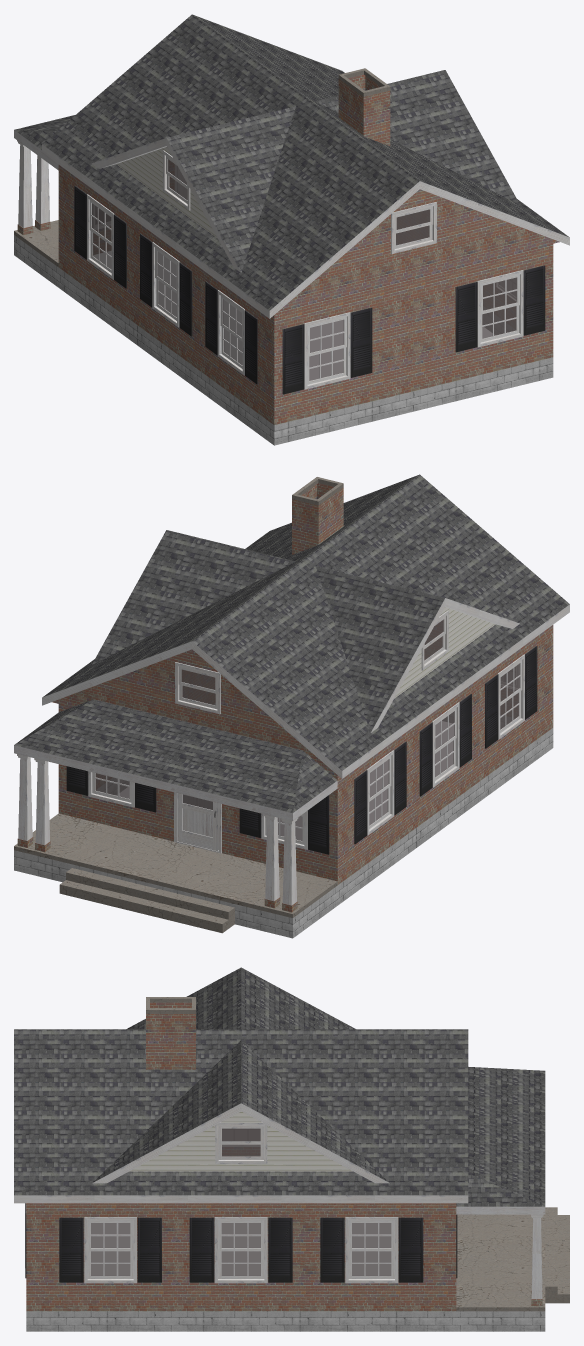
The model's file is small_brick_house.glb.
3 views of the same model, one above another, from view 1: azimuth 30°, elevation 25°; view 2: azimuth 150°, elevation 25°; view 3: azimuth 270°, elevation 25° (orthographic).
Visible parts, largest first — view 1: Material2 (×8); view 2: Material2 (×8); view 3: Material2 (×8).
Boxes of the visible parts, box(x1,y1,x2,y2) form: Material2 (×8): box(14, 14, 569, 445); Material2 (×8): box(14, 474, 569, 938); Material2 (×8): box(14, 967, 569, 1331).
Size of the model in its own units: 310 by 269 by 498.
Materials: 14 (8 with a texture image).
